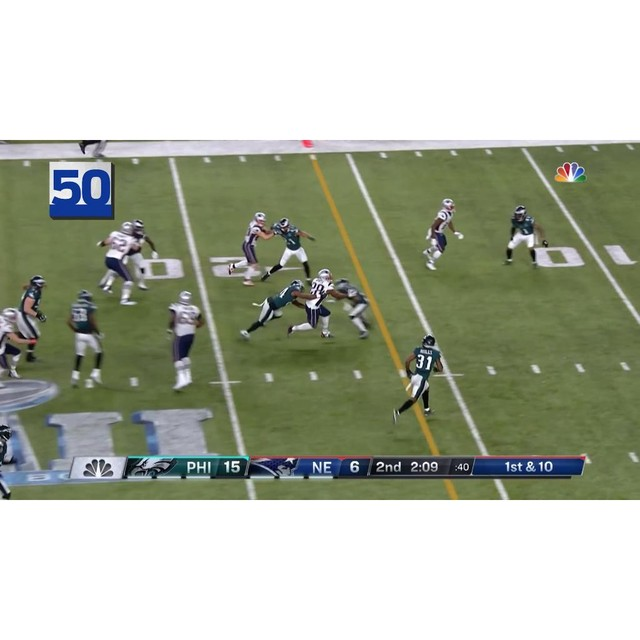american-football-player: (392, 335, 441, 423), (65, 289, 107, 388), (165, 291, 205, 391), (240, 278, 303, 339), (95, 224, 140, 306), (11, 275, 49, 364), (263, 217, 315, 282), (230, 212, 275, 287), (288, 271, 336, 341), (422, 198, 464, 270), (503, 205, 547, 268), (125, 218, 158, 292), (332, 278, 371, 339), (0, 308, 25, 382), (0, 424, 16, 500)
